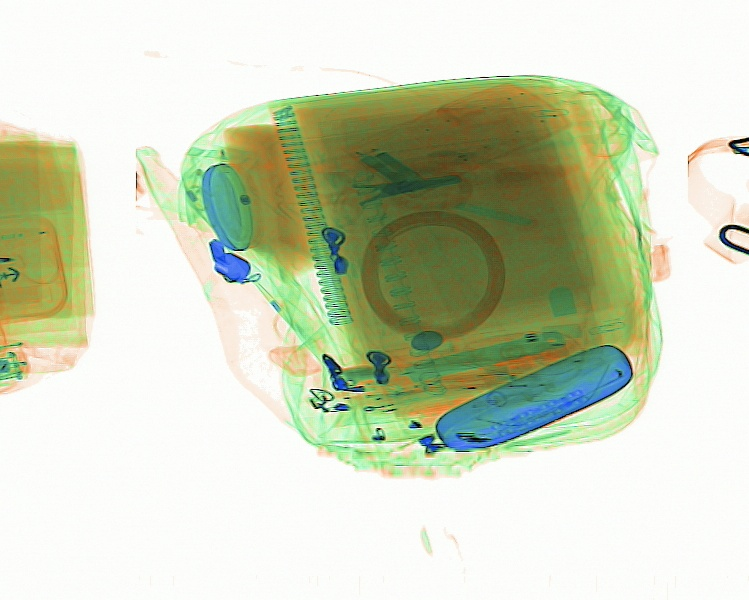scissors: (297, 167, 465, 232)
